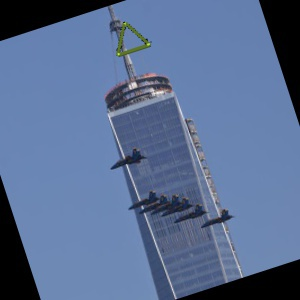triangle: (110, 19, 152, 58)
